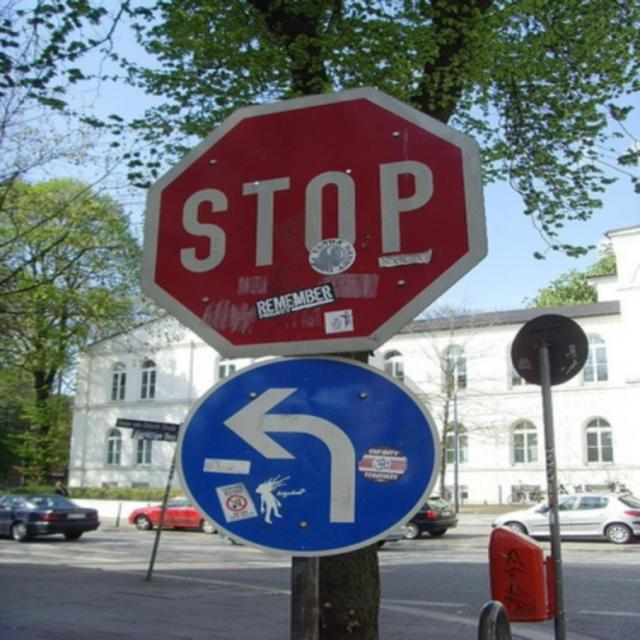car: (488, 491, 637, 542), (0, 491, 97, 540), (377, 493, 454, 548), (125, 493, 216, 532)
pole: (527, 339, 570, 635), (144, 454, 178, 580), (285, 552, 331, 638)
